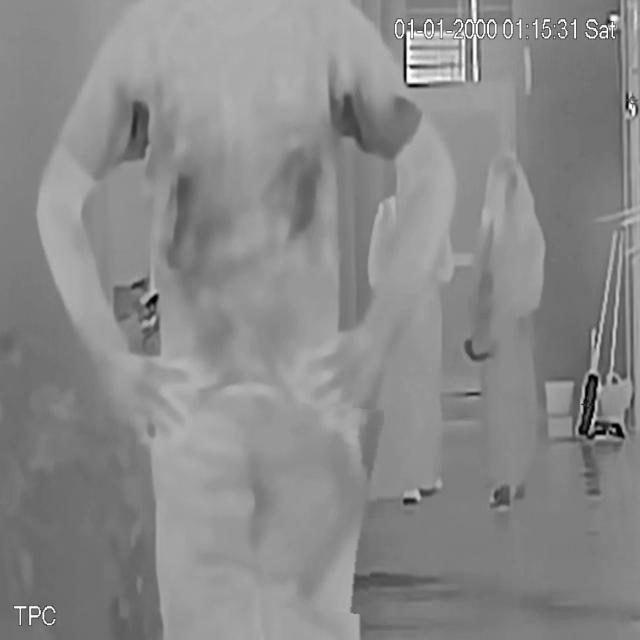Weapon: (289, 404, 380, 612)
